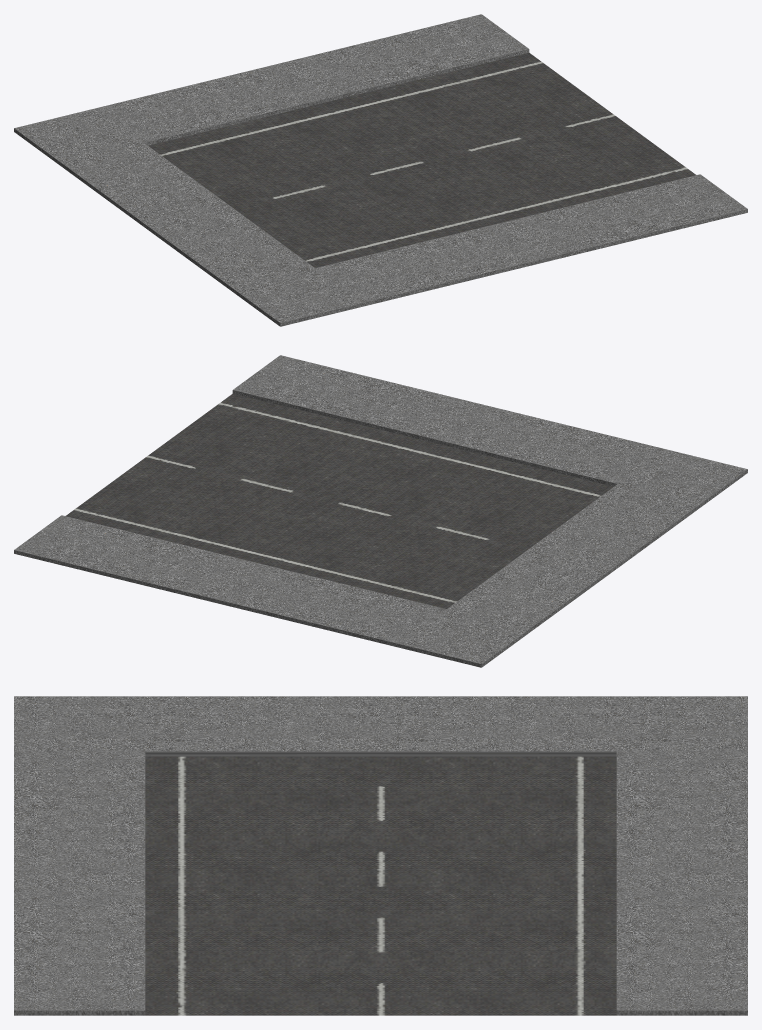
Rendered from Road_End.obj.
3 renders of one model, top to bottom at view 1: azimuth 30°, elevation 25°; view 2: azimuth 150°, elevation 25°; view 3: azimuth 270°, elevation 25°, orthographic. The views are drawn at different scales.
Parts seen in each view (by area): view 1: Road_End; view 2: Road_End; view 3: Road_End.
Part boxes in pixels (x1,y1,x2,y2): Road_End: [14, 14, 747, 326]; Road_End: [14, 355, 747, 667]; Road_End: [14, 696, 747, 1015].
Bounding box in the file's own units: 15.79 × 0.1182 × 15.57.
